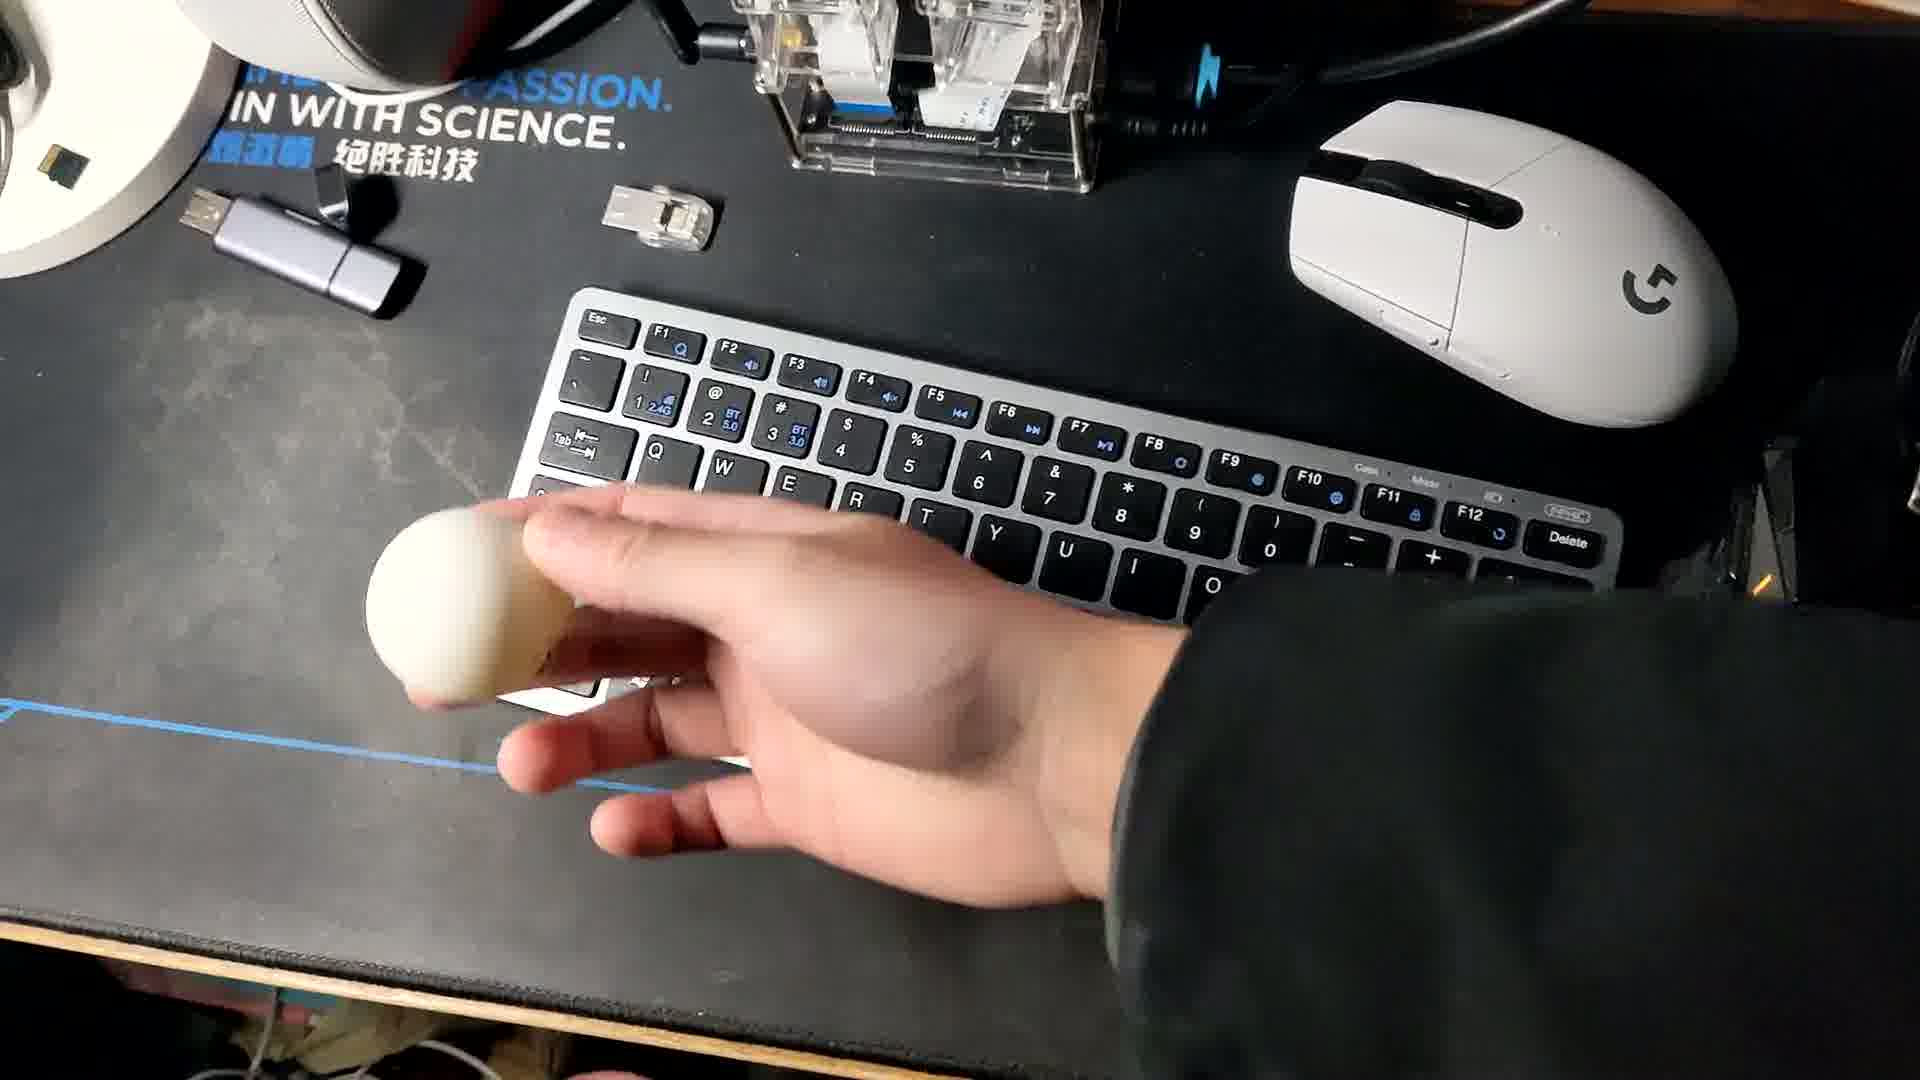Ball: (364, 505, 564, 698)
